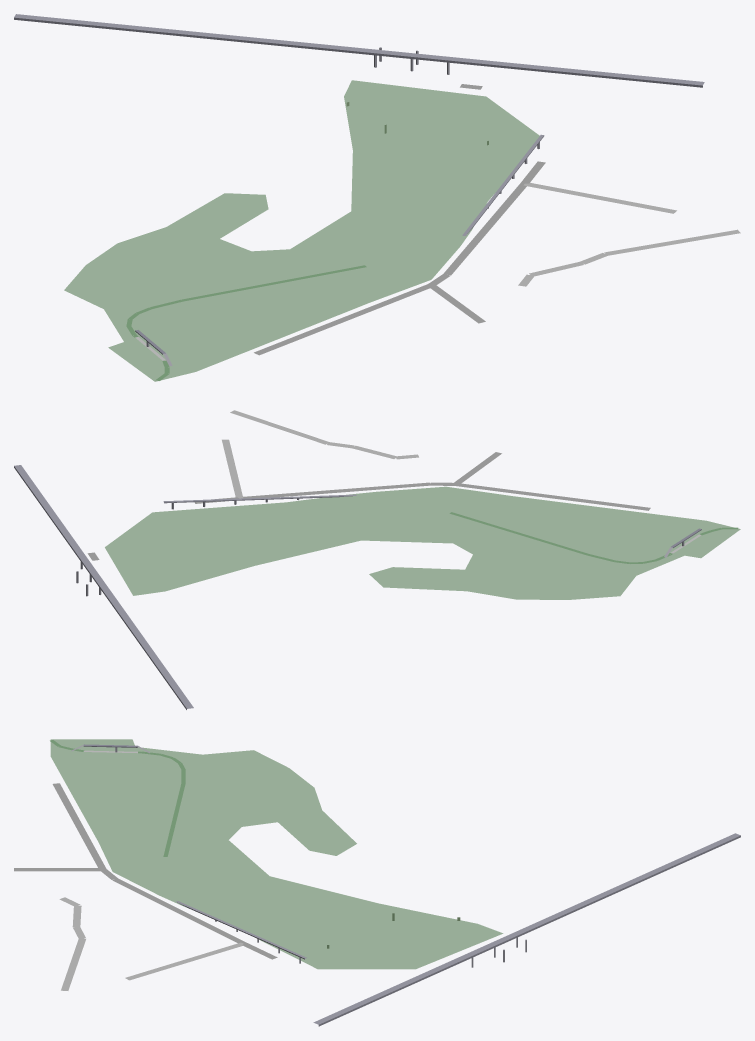
3 renders of one model, top to bottom at view 1: azimuth 30°, elevation 25°; view 2: azimuth 150°, elevation 25°; view 3: azimuth 270°, elevation 25°, orthographic. The views are drawn at different scales.
Size of the model in its own units: 650 by 14.78 by 668.
